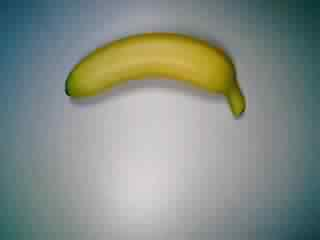banana: (61, 25, 250, 127)
